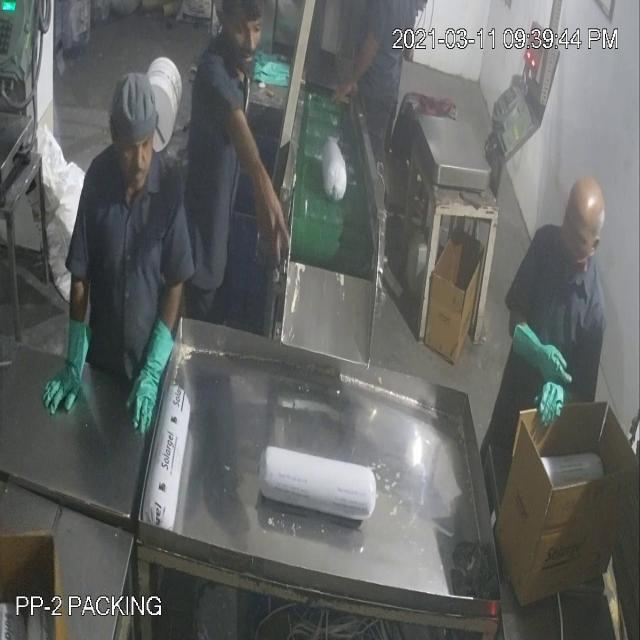No_Gloves: (51, 68, 536, 377)
